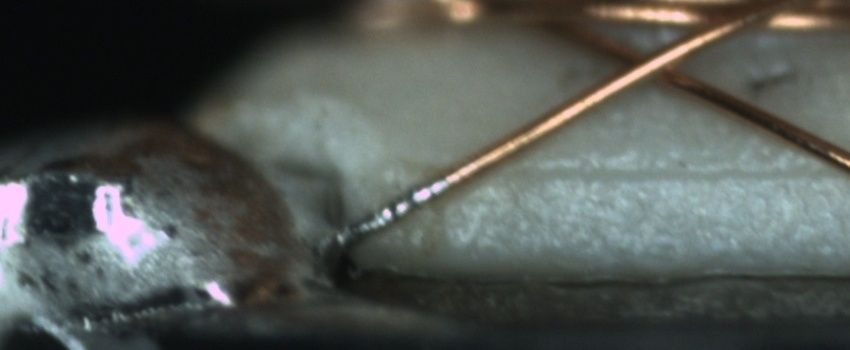CL: (599, 35, 700, 94)
DL: (507, 140, 849, 205)
TS: (340, 177, 449, 244)
TTCW: (328, 167, 467, 247)
